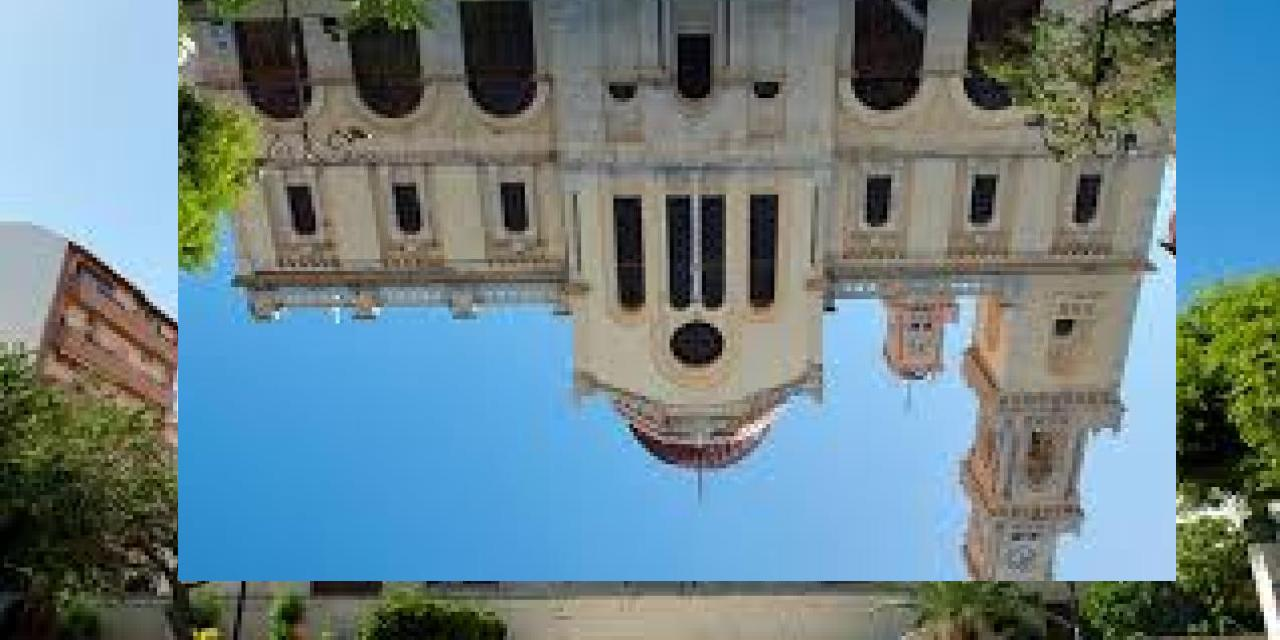Agios Minas: (179, 1, 1177, 582)
